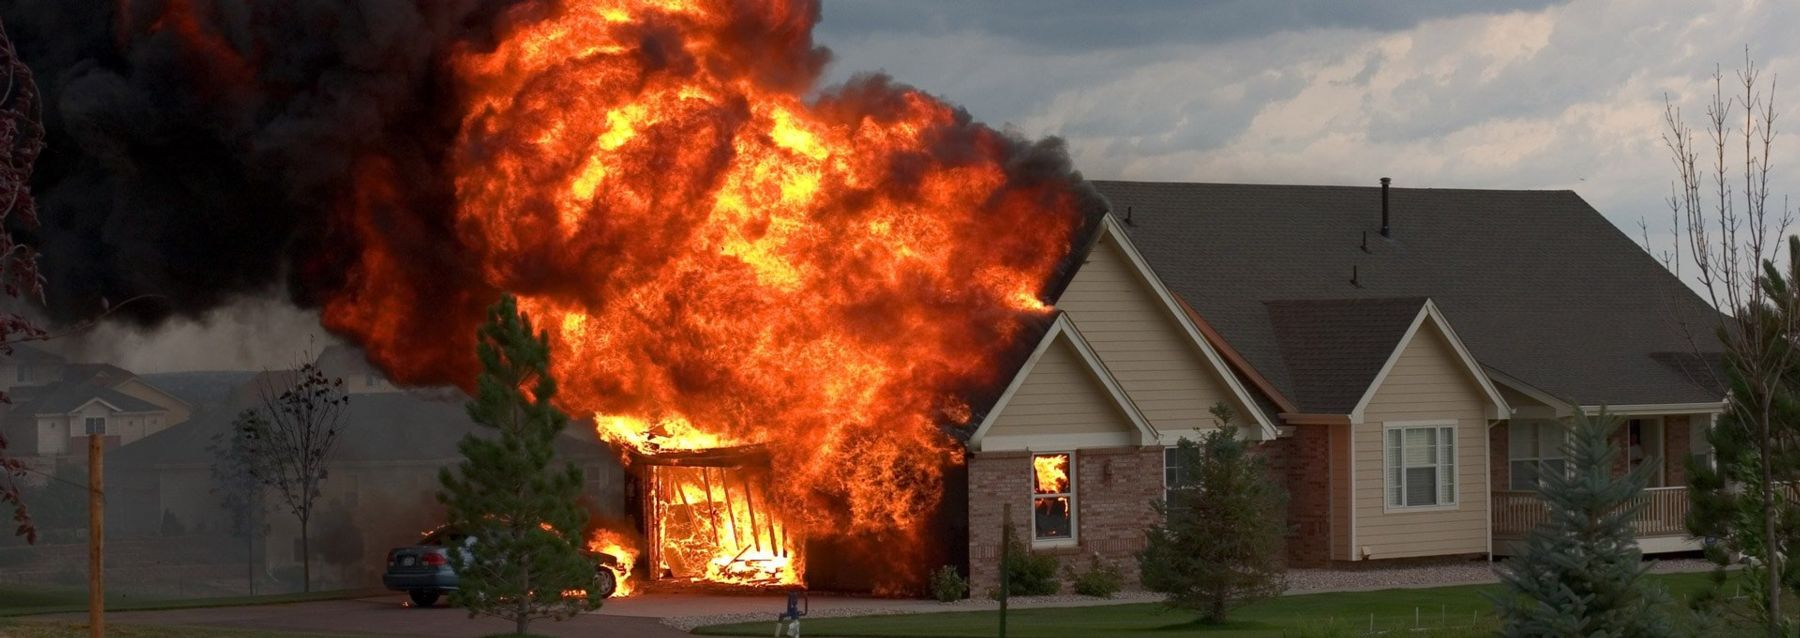fire: (452, 23, 1079, 535)
